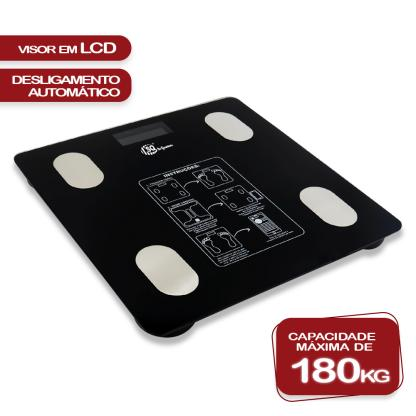Displays: (112, 121, 174, 146)
